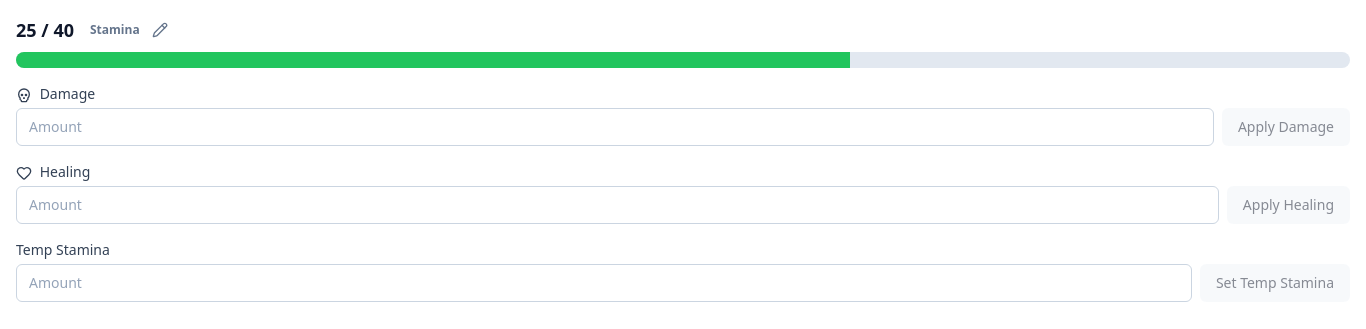
Test: HpTracker Component - Max HP Editing (Issue #301) › should show input field when edit button is clicked
Click the 1st button at point(160, 30), box [148,18,172,42]
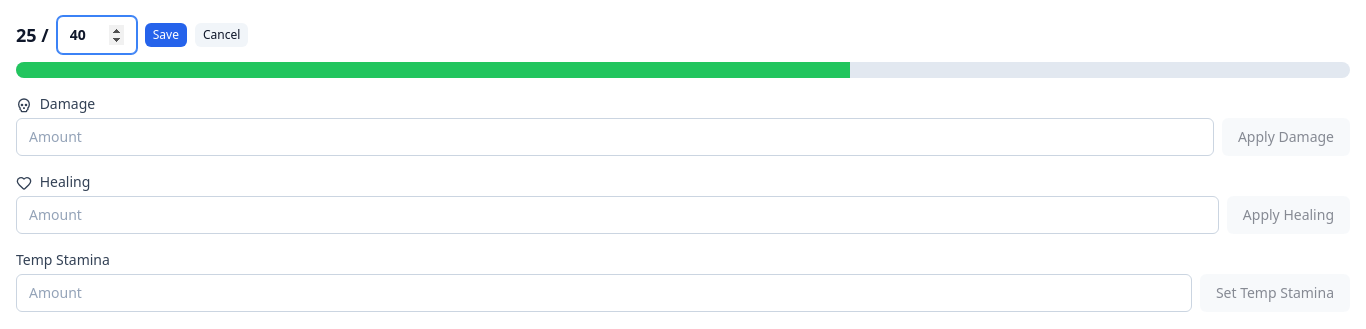
Now the 1st number field is shown, box [57,16,137,54]
